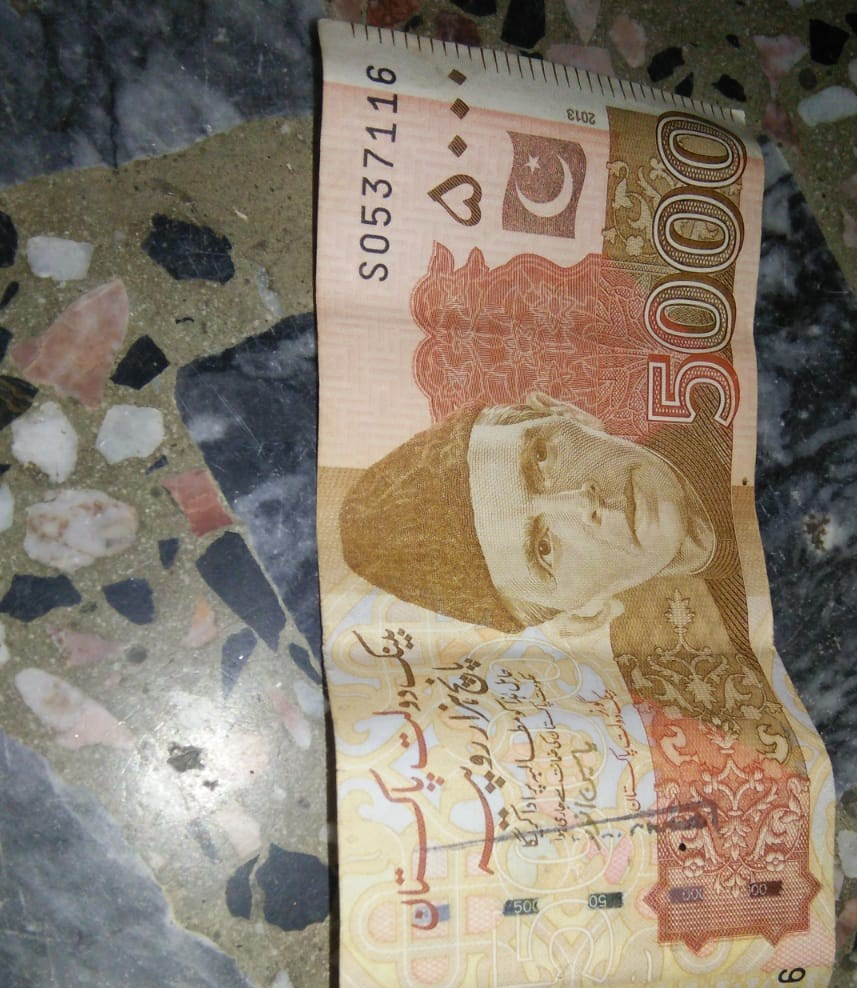5000 rupee: (300, 11, 838, 988)
